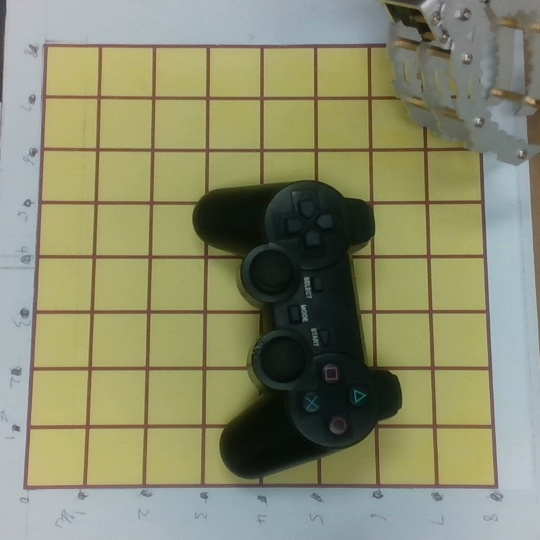remote: (190, 179, 403, 480)
